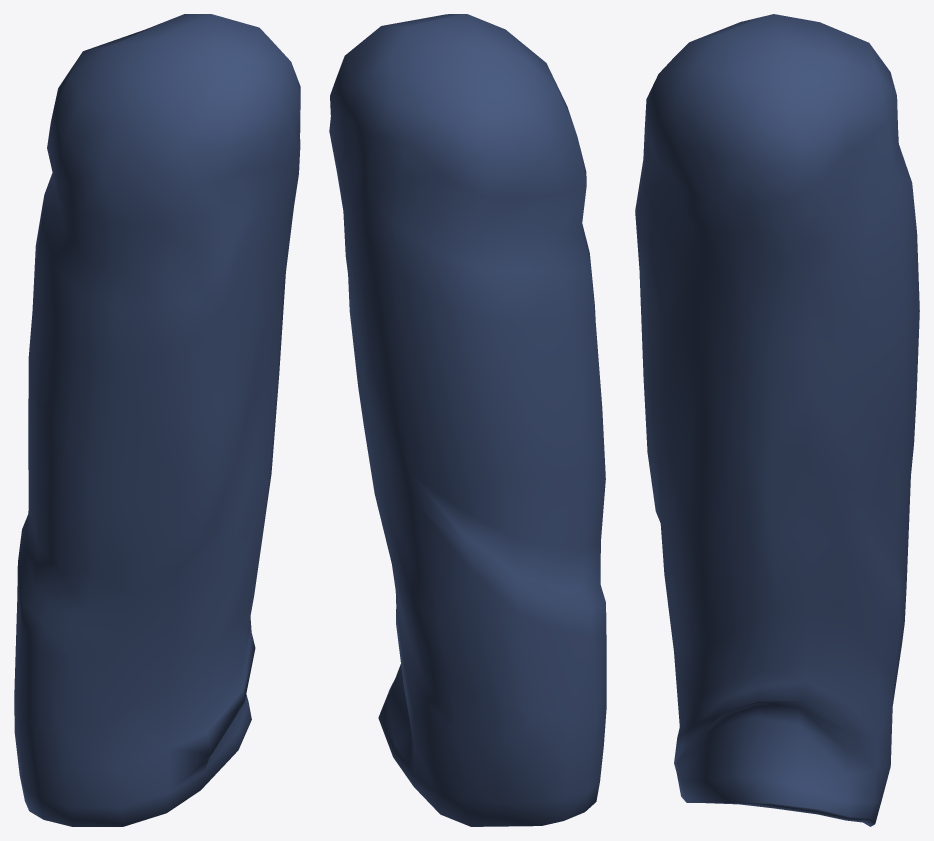
The model's file is LShinLink.dae.
3 renders of one model, left to right at view 1: azimuth 30°, elevation 25°; view 2: azimuth 150°, elevation 25°; view 3: azimuth 270°, elevation 25°, orthographic. The views are drawn at different scales.
Parts seen in each view (by area): view 1: ShapeIndexedFaceSet; view 2: ShapeIndexedFaceSet; view 3: ShapeIndexedFaceSet.
Boxes of the visible parts, bbox=[...] form: ShapeIndexedFaceSet: bbox=[14, 14, 300, 826]; ShapeIndexedFaceSet: bbox=[329, 14, 606, 826]; ShapeIndexedFaceSet: bbox=[635, 14, 919, 826].
Bounding box in the file's own units: 0.1742 × 0.1482 × 0.4751.
